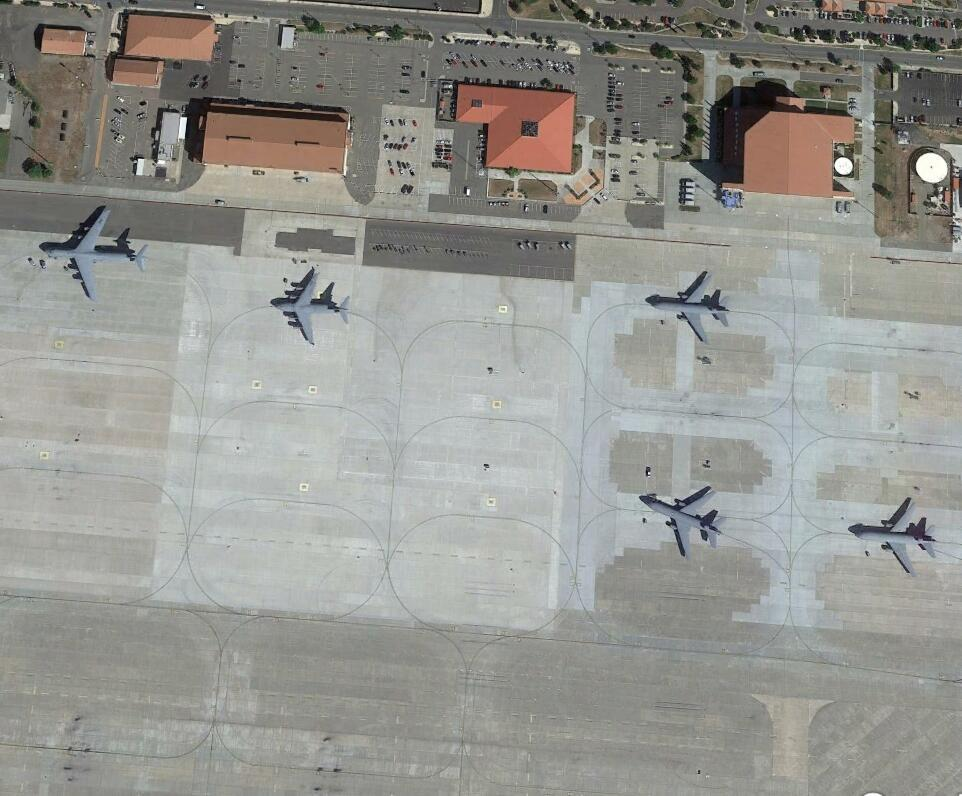A18: (638, 478, 727, 554), (645, 271, 734, 343), (850, 502, 938, 574)
A3: (270, 274, 351, 345)
A4: (37, 205, 149, 301)
